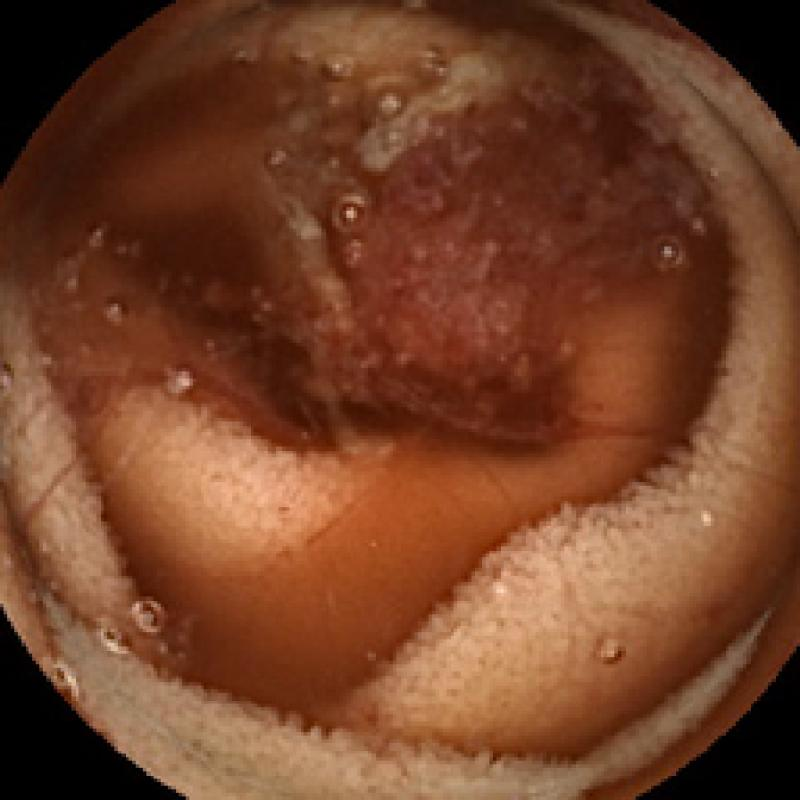bleeding: (321, 85, 750, 454), (8, 437, 92, 542)
